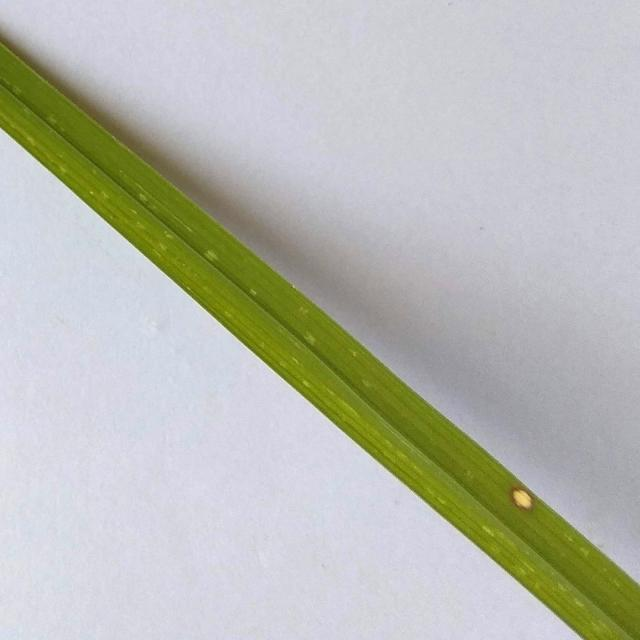Leaf_Blast: (479, 452, 570, 547)
